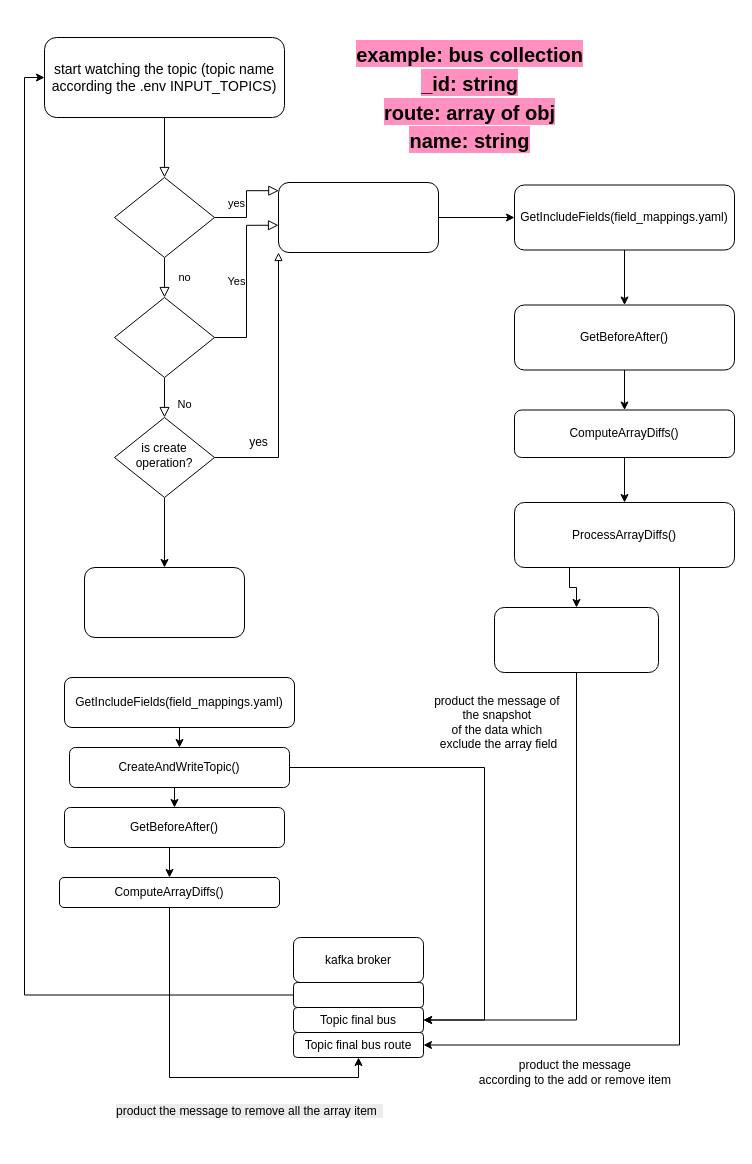
This 752x1164 diagram has some shape labels left out. The centre of each missing label's shape, as x and y in pixels:
HandleDelete: point (164, 602)
handleUpdateOrInsert: point (358, 217)
is read operation?: point (164, 217)
is update operation?: point (164, 337)
produceBaseMessage(): point (576, 639)
Topic bus: point (358, 995)
